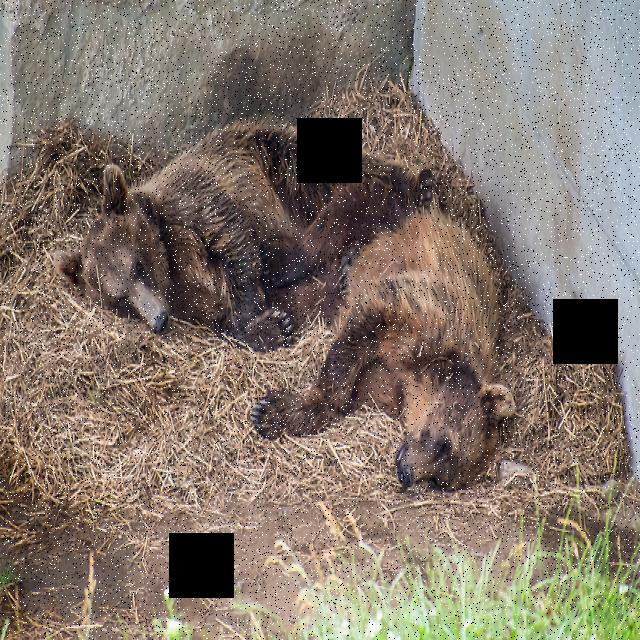Bear: (253, 204, 510, 498), (59, 118, 422, 304)
